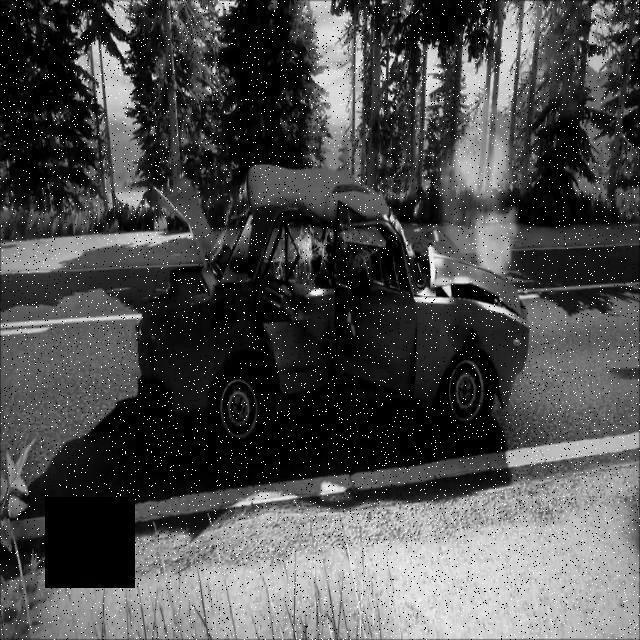accident: (136, 163, 536, 432)
